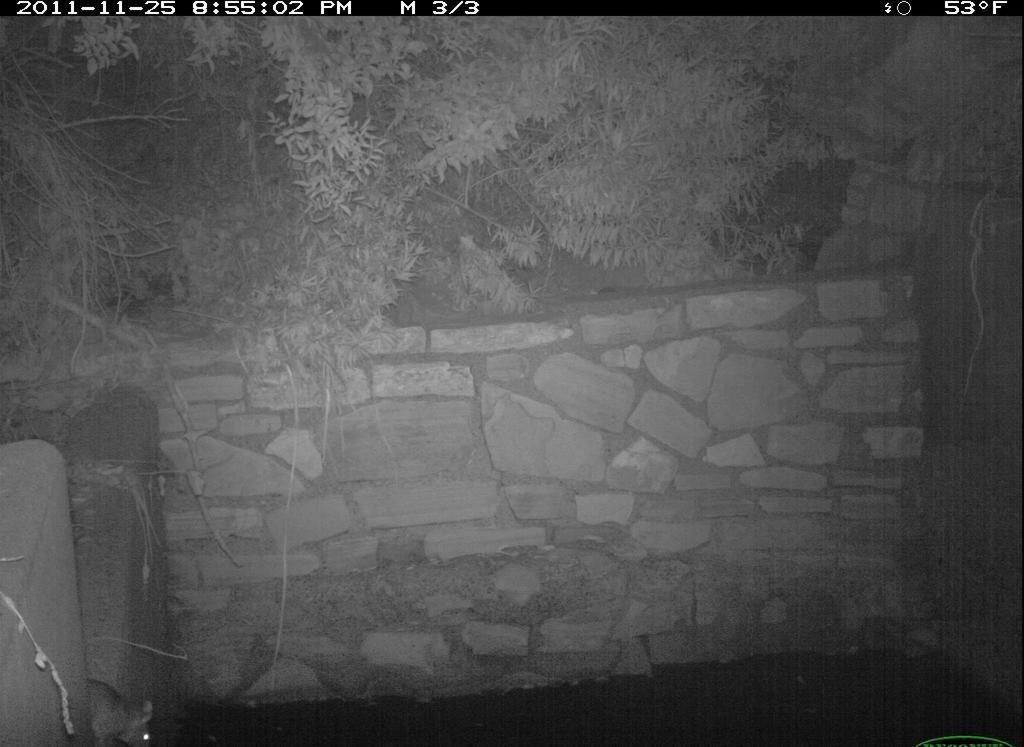rodent: (76, 680, 173, 747)
